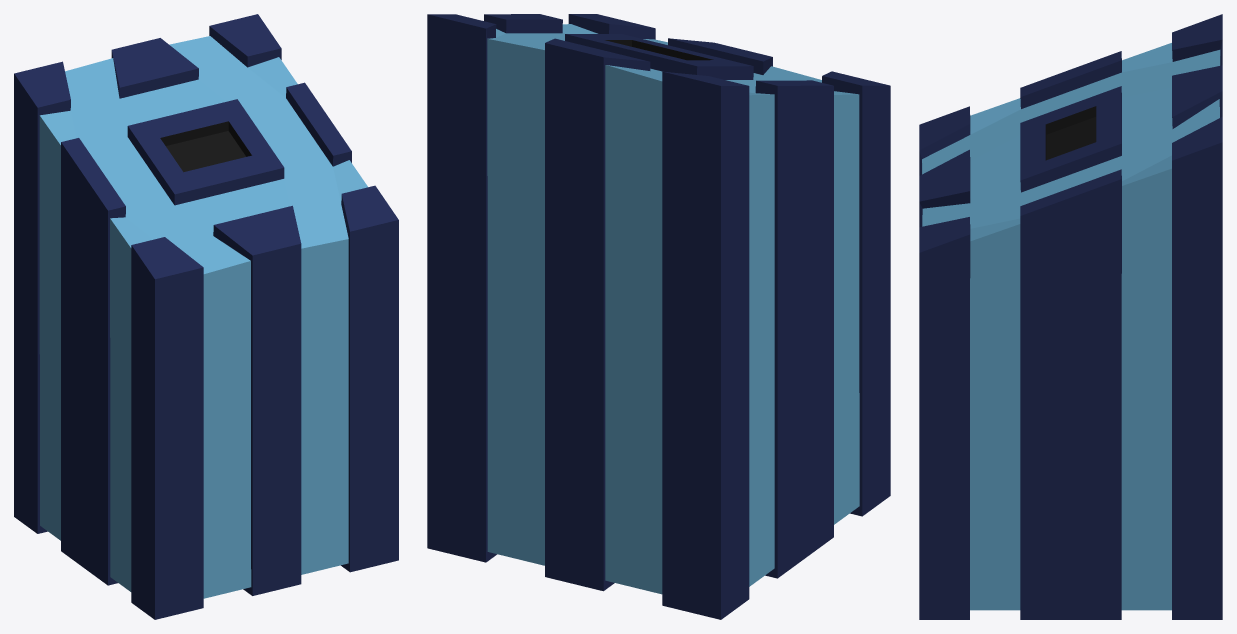
The model's file is sinzyu.fbx.
3 renders of one model, left to right at view 1: azimuth 30°, elevation 25°; view 2: azimuth 150°, elevation 25°; view 3: azimuth 270°, elevation 25°, orthographic. The views are drawn at different scales.
Visible parts, largest first — view 1: 立方体.002; view 2: 立方体.002; view 3: 立方体.002.
Boxes of the visible parts, x1,y1,x2,y2 form: 立方体.002: (14, 14, 398, 619); 立方体.002: (427, 14, 890, 619); 立方体.002: (919, 14, 1222, 619).
Size of the model in its own units: 49.87 by 86.64 by 49.87.
